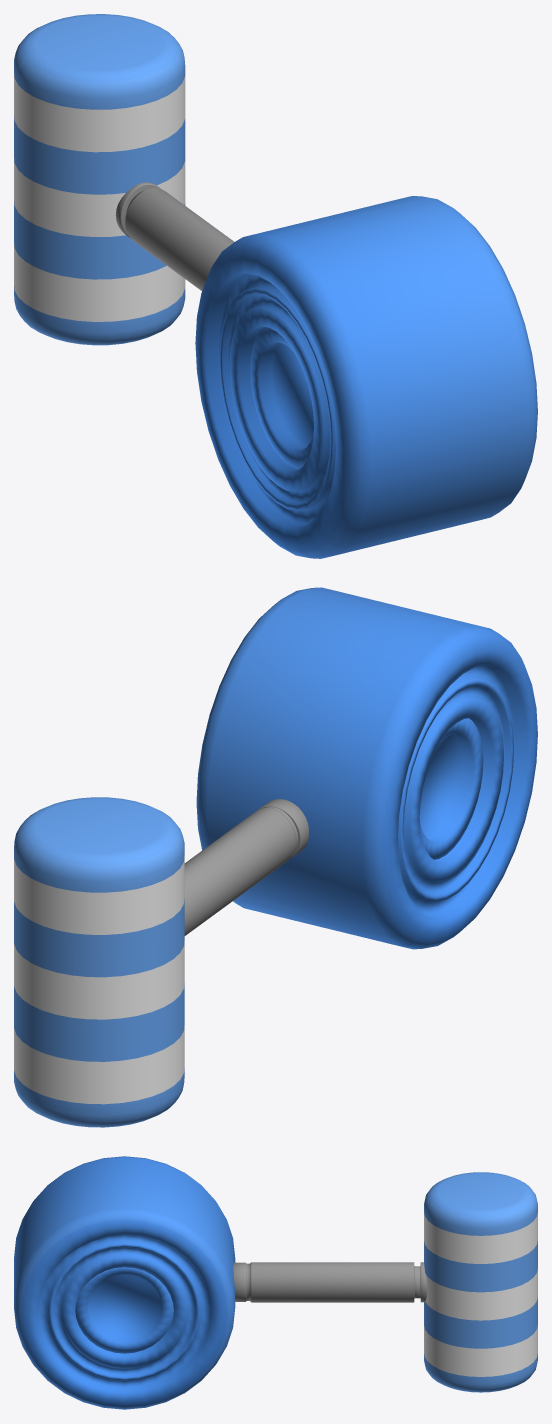
Rendered from blue-hammer.glb.
3 views of the same model, one above another, from view 1: azimuth 30°, elevation 25°; view 2: azimuth 150°, elevation 25°; view 3: azimuth 270°, elevation 25° (orthographic). The views are drawn at different scales.
Visible parts, largest first — view 1: Hammer_large_blue.001; view 2: Hammer_large_blue.001; view 3: Hammer_large_blue.001.
Part boxes in pixels (x1,y1,x2,y2): Hammer_large_blue.001: [14, 14, 537, 558]; Hammer_large_blue.001: [14, 587, 537, 1127]; Hammer_large_blue.001: [14, 1156, 537, 1409].
Size of the model in its own units: 1.38 by 2.08 by 4.92.
Materials: 1 (1 with a texture image).
